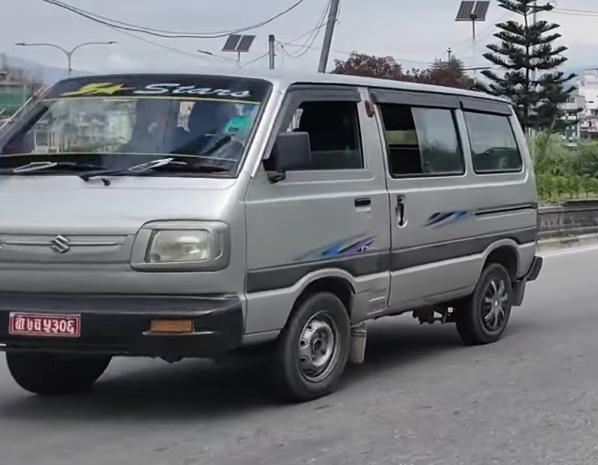van: (0, 63, 537, 399)
